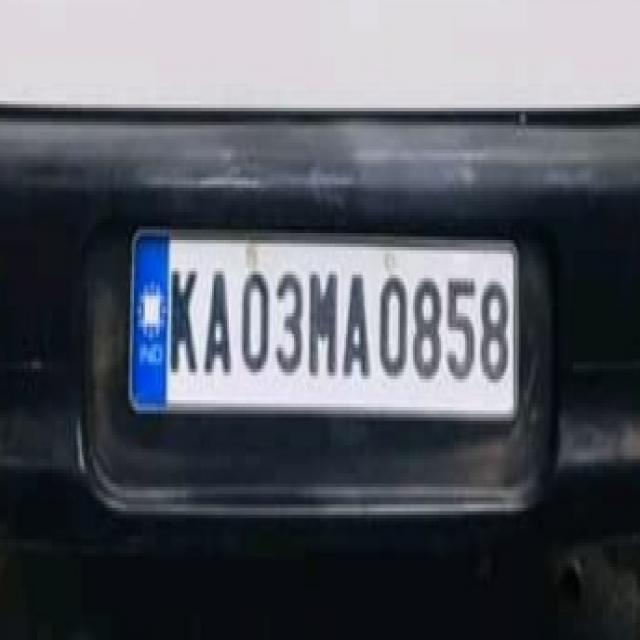0: (238, 255, 273, 382), (376, 266, 409, 382)
3: (272, 258, 304, 378)
5: (444, 266, 480, 390)
8: (410, 268, 442, 384), (479, 268, 511, 384)
A: (200, 258, 233, 388), (342, 262, 374, 385)
K: (166, 258, 202, 382)
M: (306, 268, 343, 382)
